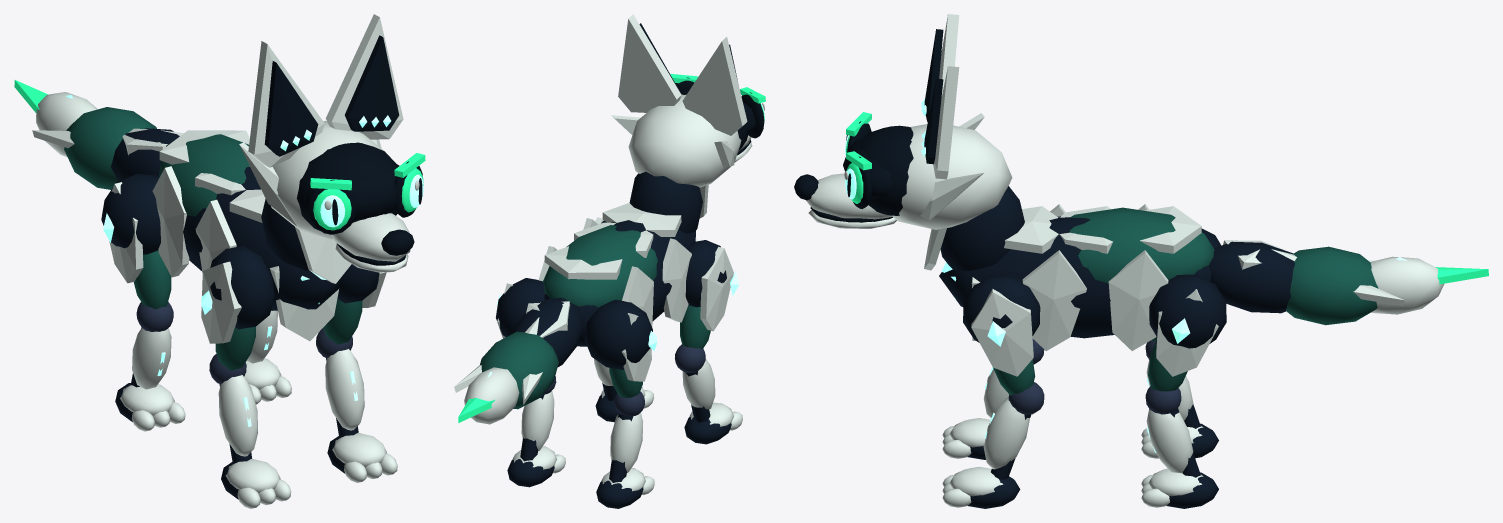
Rendered from grok.glb.
The picture shows the model from 3 angles, left to right: view 1: azimuth 30°, elevation 25°; view 2: azimuth 150°, elevation 25°; view 3: azimuth 270°, elevation 25°; orthographic projection. The views are drawn at different scales.
Parts seen in each view (by area): view 1: grok-chest, grok-head, grok-leg-front-left-hip, grok-leg-rear-left-hip, grok-ear-right, grok-ear-left, grok-tail-1, grok-neck, grok-leg-front-right-knee, grok-leg-front-left-knee, grok-face-shell, grok-leg-rear-left-knee (+12 smaller); view 2: grok-chest, grok-head, grok-leg-rear-left-hip, grok-leg-front-left-hip, grok-tail-1, grok-ear-right, grok-ear-left, grok-neck, grok-tail-0, grok-tail-2, grok-leg-rear-left-knee, grok-leg-front-left-knee (+8 smaller); view 3: grok-chest, grok-head, grok-leg-rear-right-hip, grok-leg-front-right-hip, grok-tail-1, grok-tail-0, grok-neck, grok-tail-2, grok-leg-front-right-knee, grok-leg-rear-right-knee, grok-face-shell, grok-ear-right (+9 smaller).
Part boxes in pixels (box(x1,y1,x2,y2)): grok-chest: box(152, 130, 341, 341); grok-head: box(239, 120, 414, 261); grok-leg-front-left-hip: box(201, 246, 274, 370); grok-leg-rear-left-hip: box(101, 174, 171, 309); grok-ear-right: box(325, 14, 403, 139); grok-ear-left: box(248, 41, 324, 167); grok-tail-1: box(32, 107, 156, 189); grok-neck: box(261, 199, 351, 283); grok-leg-front-right-knee: box(316, 328, 364, 437); grok-leg-front-left-knee: box(209, 354, 257, 463); grok-face-shell: box(296, 142, 397, 234); grok-leg-rear-left-knee: box(130, 302, 173, 389); grok-chest: box(538, 203, 698, 346); grok-head: box(611, 94, 755, 187); grok-leg-rear-left-hip: box(584, 299, 657, 397); grok-leg-front-left-hip: box(680, 240, 738, 348); grok-tail-1: box(454, 331, 558, 409); grok-ear-right: box(618, 14, 681, 112); grok-ear-left: box(682, 37, 747, 135); grok-neck: box(629, 171, 708, 233); grok-tail-0: box(511, 297, 582, 367); grok-tail-2: box(458, 367, 519, 424); grok-leg-rear-left-knee: box(609, 391, 644, 482); grok-leg-front-left-knee: box(674, 344, 715, 422); grok-chest: box(939, 204, 1214, 351); grok-head: box(794, 113, 1012, 229); grok-leg-rear-right-hip: box(1148, 274, 1226, 391); grok-leg-front-right-hip: box(963, 276, 1040, 395); grok-tail-1: box(1286, 246, 1404, 325); grok-tail-0: box(1209, 240, 1296, 313); grok-neck: box(924, 186, 1024, 270); grok-tail-2: box(1370, 256, 1488, 314); grok-leg-front-right-knee: box(983, 382, 1044, 479); grok-leg-rear-right-knee: box(1145, 386, 1200, 477); grok-face-shell: box(860, 125, 913, 215); grok-ear-right: box(921, 66, 959, 179).
Size of the model in its own units: 1.19 by 2.78 by 3.97.
